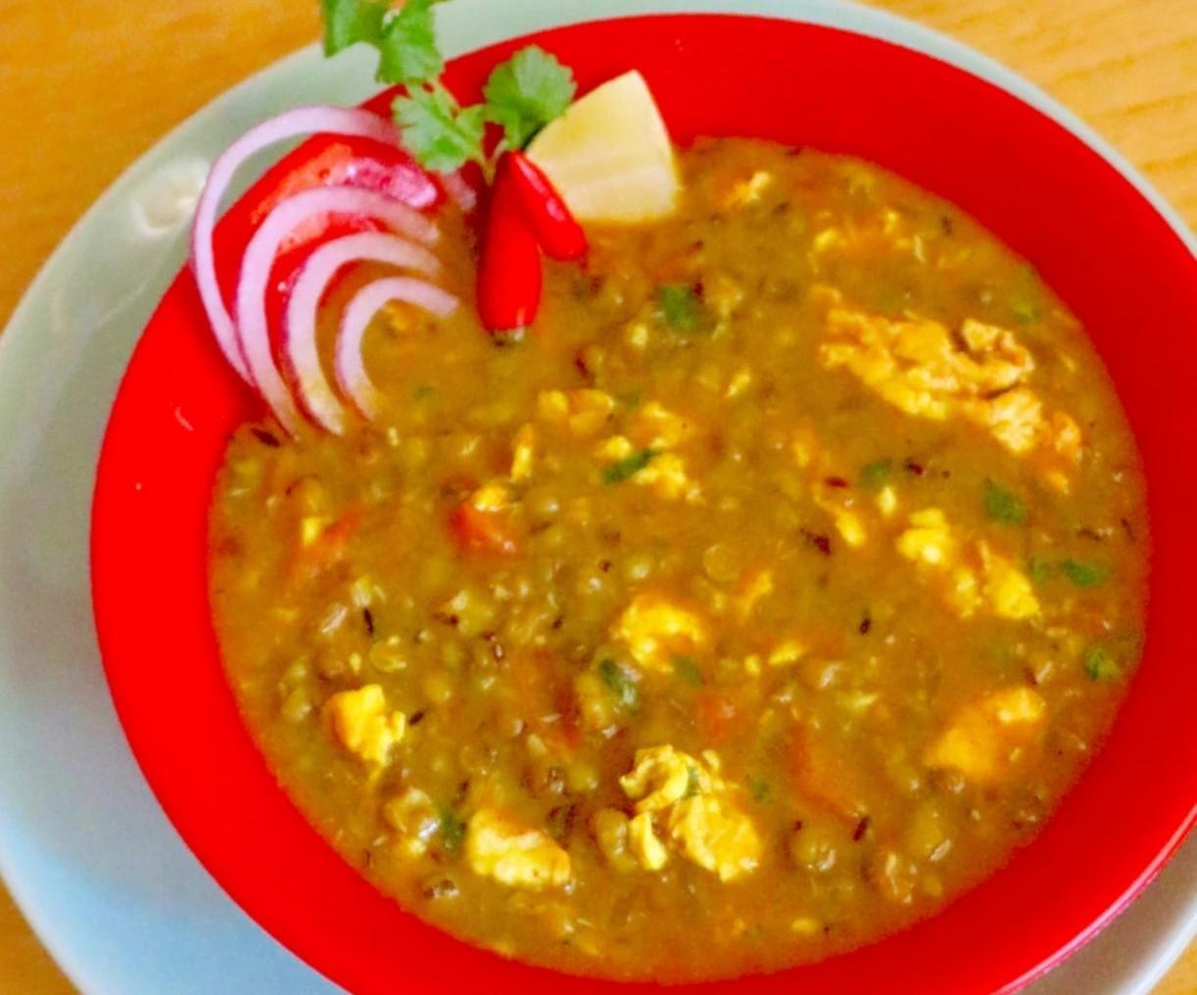Dal: (202, 136, 1153, 982)
